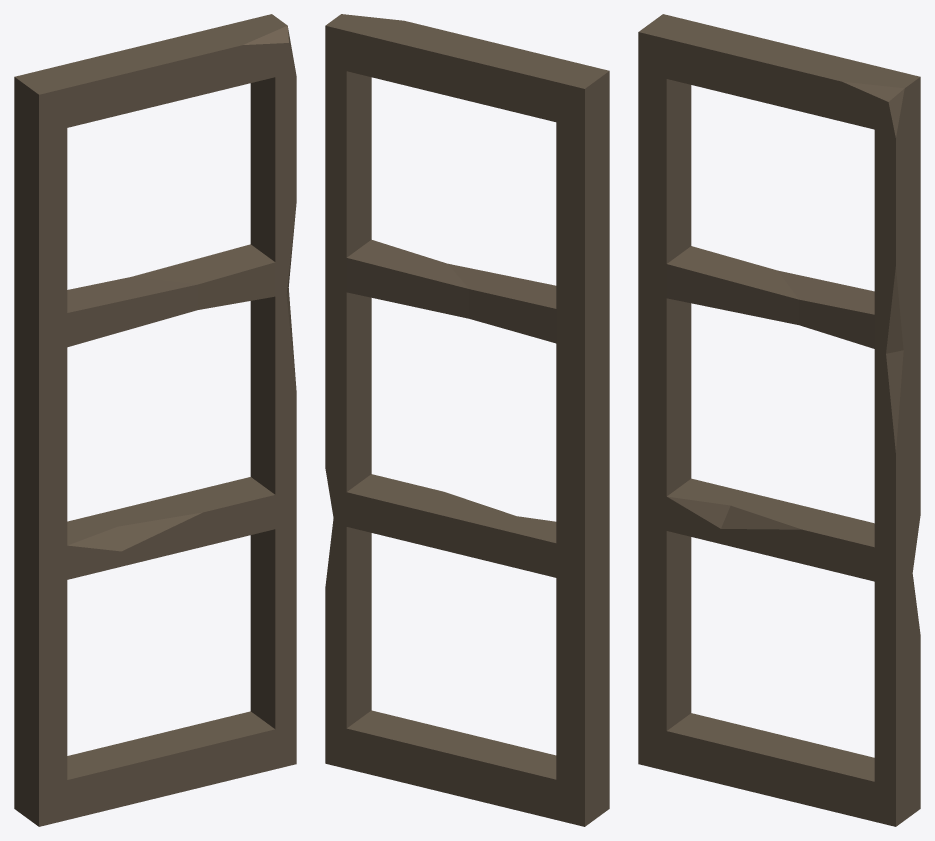
File: SM_Bld_Village_Window_Fold_R_02.fbx
3 renders of one model, left to right at view 1: azimuth 30°, elevation 25°; view 2: azimuth 150°, elevation 25°; view 3: azimuth 330°, elevation 25°, orthographic.
Parts seen in each view (by area): view 1: SM_Bld_Village_Window_Fold_R_02; view 2: SM_Bld_Village_Window_Fold_R_02; view 3: SM_Bld_Village_Window_Fold_R_02.
Part boxes in pixels (box(x1,y1,x2,y2)): SM_Bld_Village_Window_Fold_R_02: box(14, 14, 296, 826); SM_Bld_Village_Window_Fold_R_02: box(325, 14, 609, 826); SM_Bld_Village_Window_Fold_R_02: box(638, 14, 920, 826).
Size of the model in its own units: 50.06 by 136 by 8.29.
